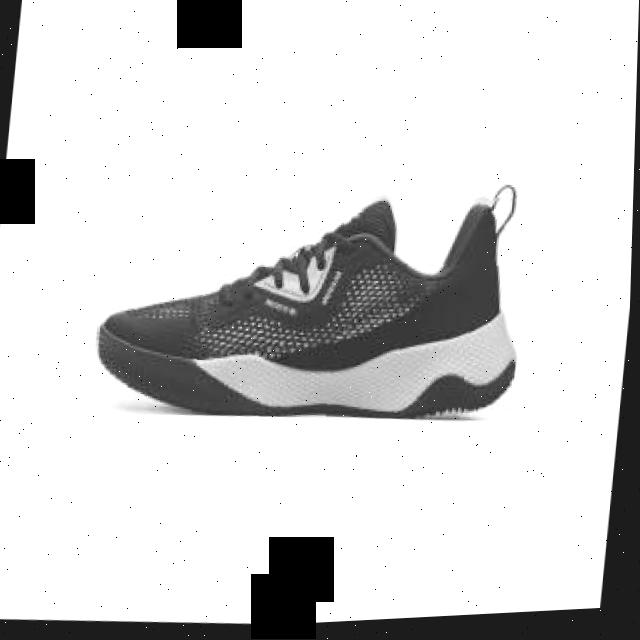shoe: (90, 169, 535, 443)
